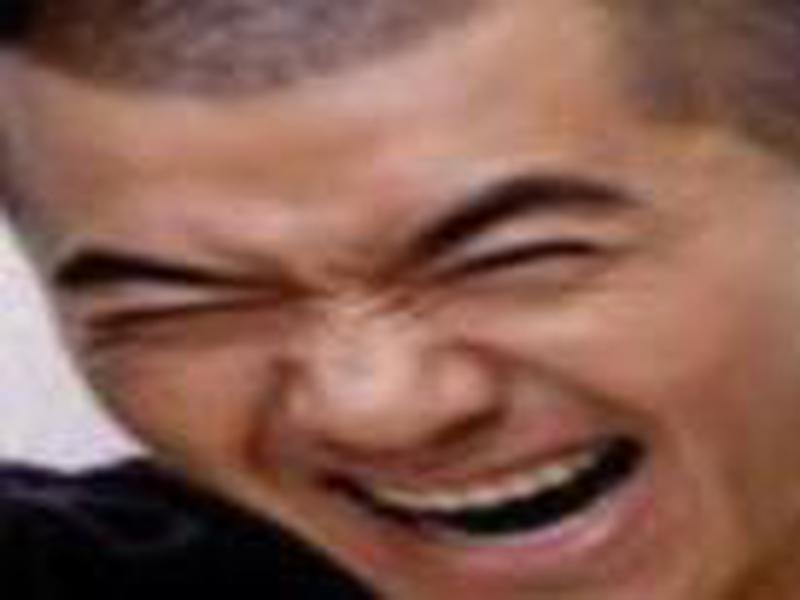without_mask: (4, 42, 799, 593)
